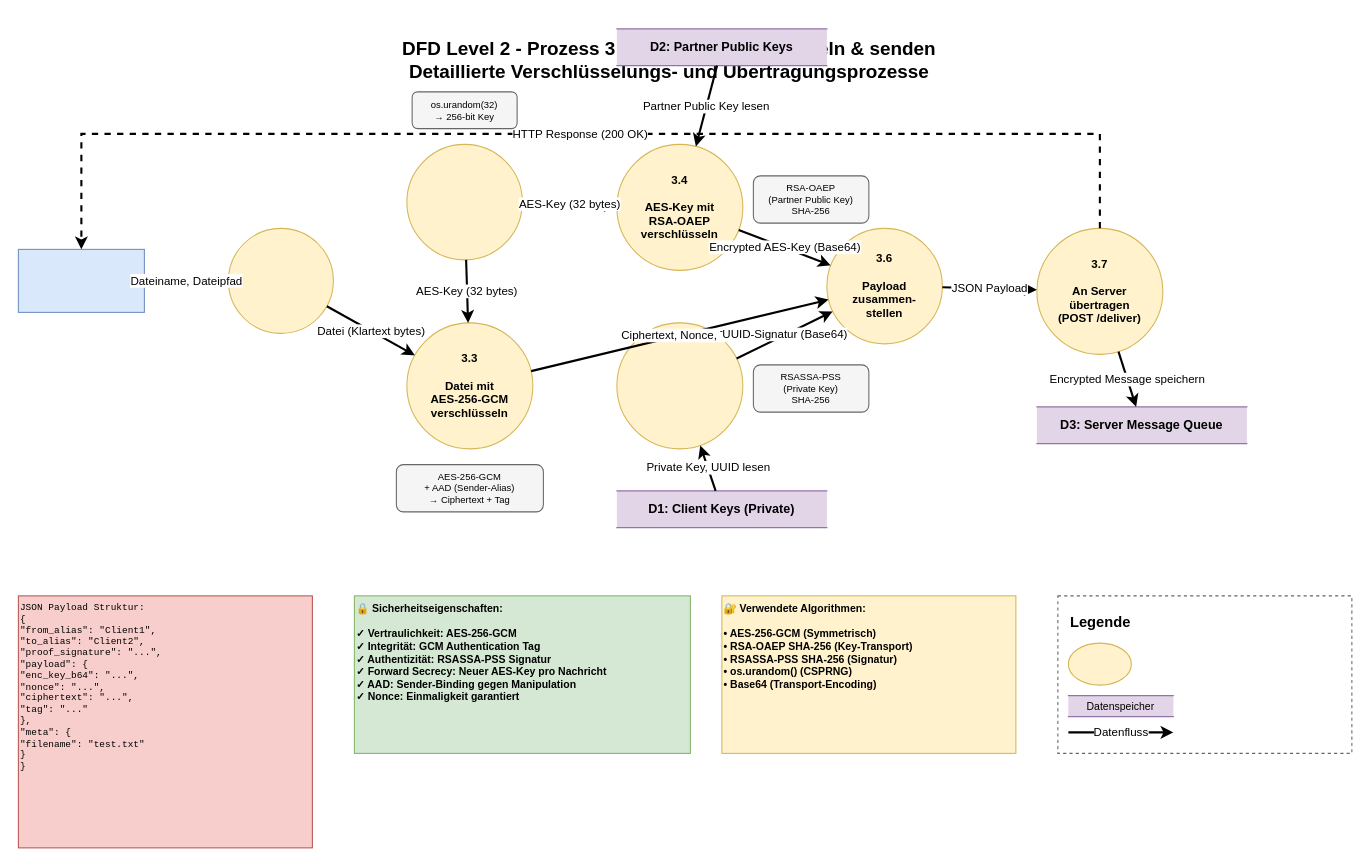
This 1370x866 diagram has some shape labels left out. The shapes that lost their labels are listed below. From the top down, each one's box as (x1, y1, x2, y2) in pixels, then its label:
(406, 143, 522, 260): 3.2 AES-Key generieren (256 bit)
(17, 248, 144, 312): Client 1 (Sender)
(227, 227, 333, 333): 3.1 Datei einlesen
(616, 322, 743, 449): 3.5 UUID-Signatur erstellen (RSASSA-PSS)
(1067, 642, 1131, 685): 3.X Prozess
